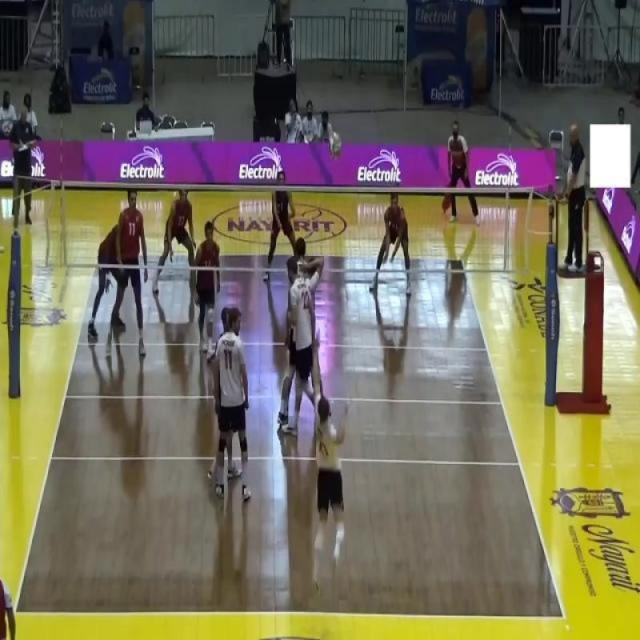volleyball: (327, 130, 342, 159)
